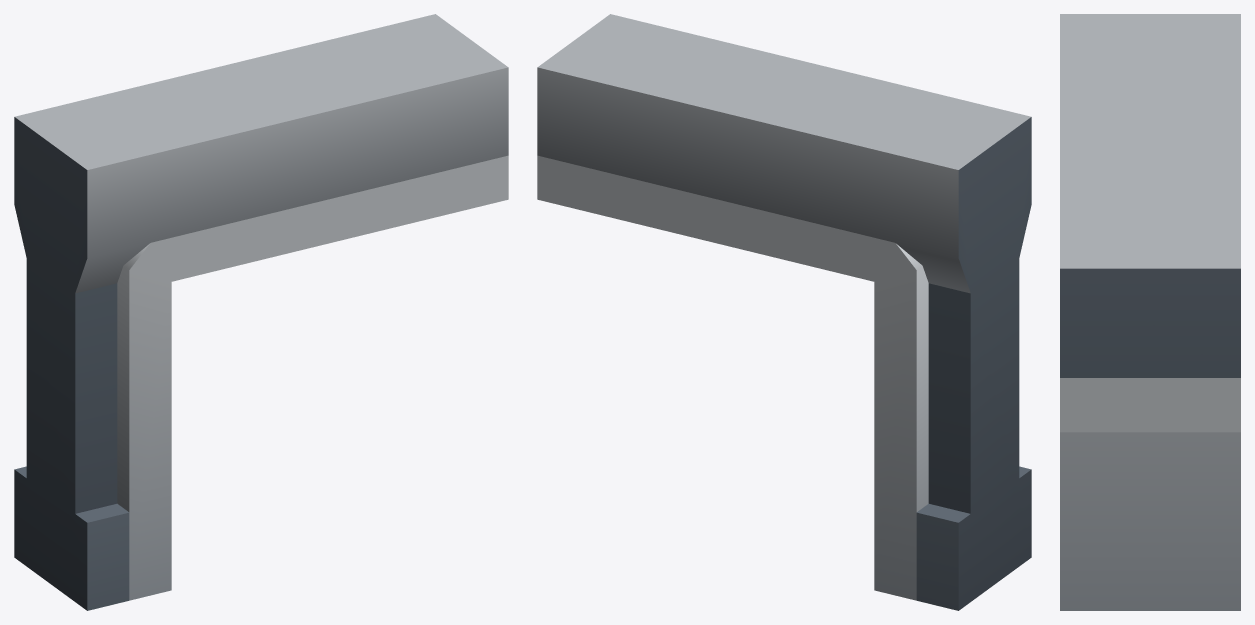
Rendered from wall-door-edge.glb.
The picture shows the model from 3 angles, left to right: view 1: azimuth 30°, elevation 25°; view 2: azimuth 150°, elevation 25°; view 3: azimuth 270°, elevation 25°; orthographic projection. The views are drawn at different scales.
Visible parts, largest first — view 1: wall-door-edge; view 2: wall-door-edge; view 3: wall-door-edge.
Part boxes in pixels (box(x1,y1,x2,y2)): wall-door-edge: box(14, 14, 508, 610); wall-door-edge: box(537, 14, 1031, 610); wall-door-edge: box(1060, 14, 1240, 610).
Bounding box in the file's own units: 1 × 1 × 0.3.
